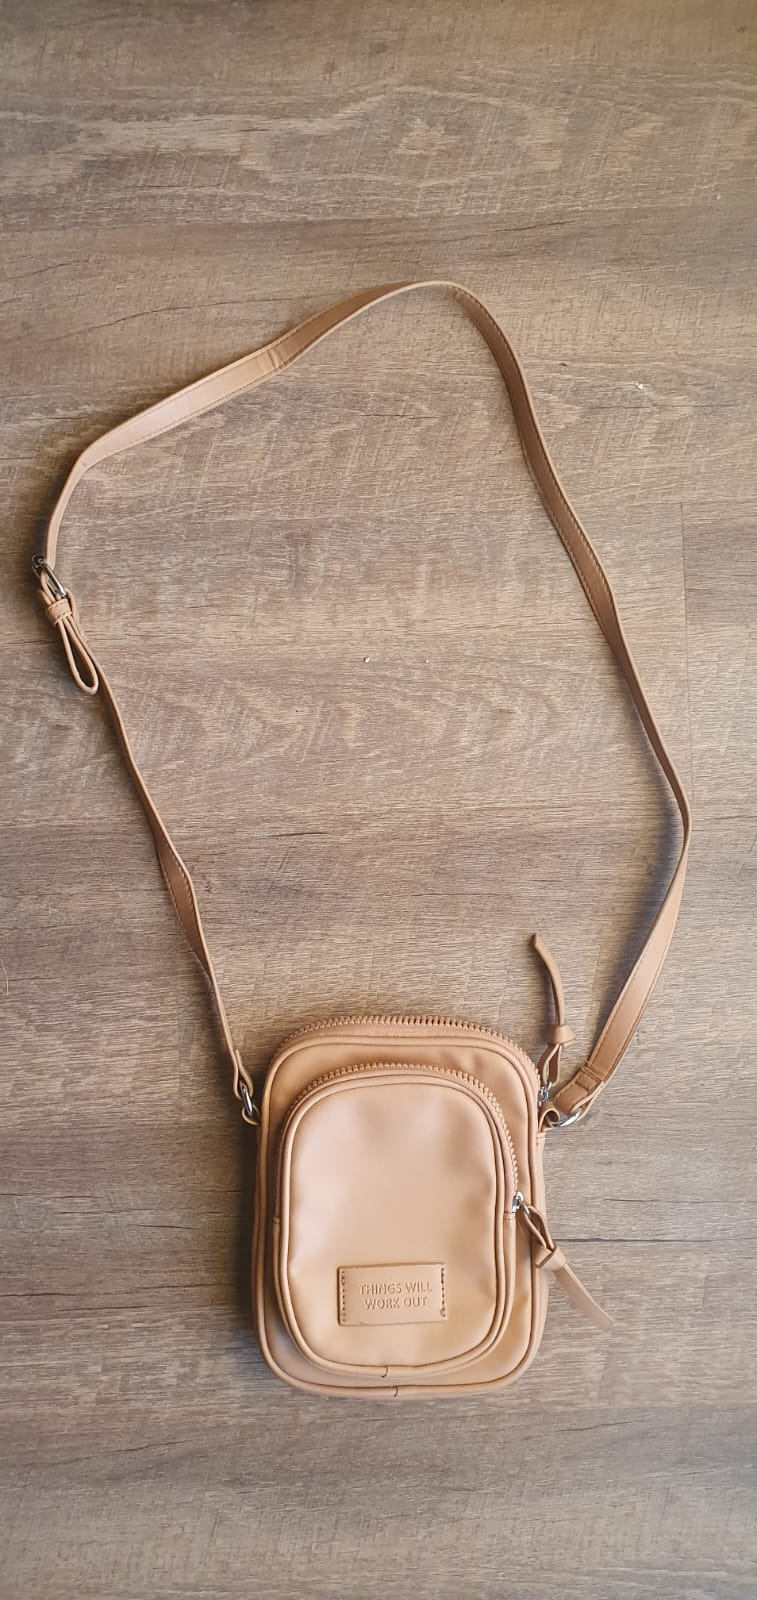cartera: (5, 258, 757, 1411)
cuero: (205, 997, 626, 1403)
